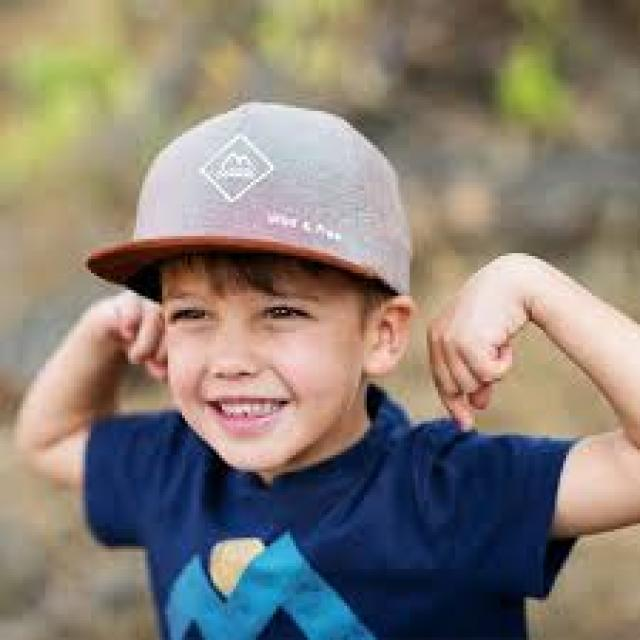cap: (80, 88, 418, 387)
